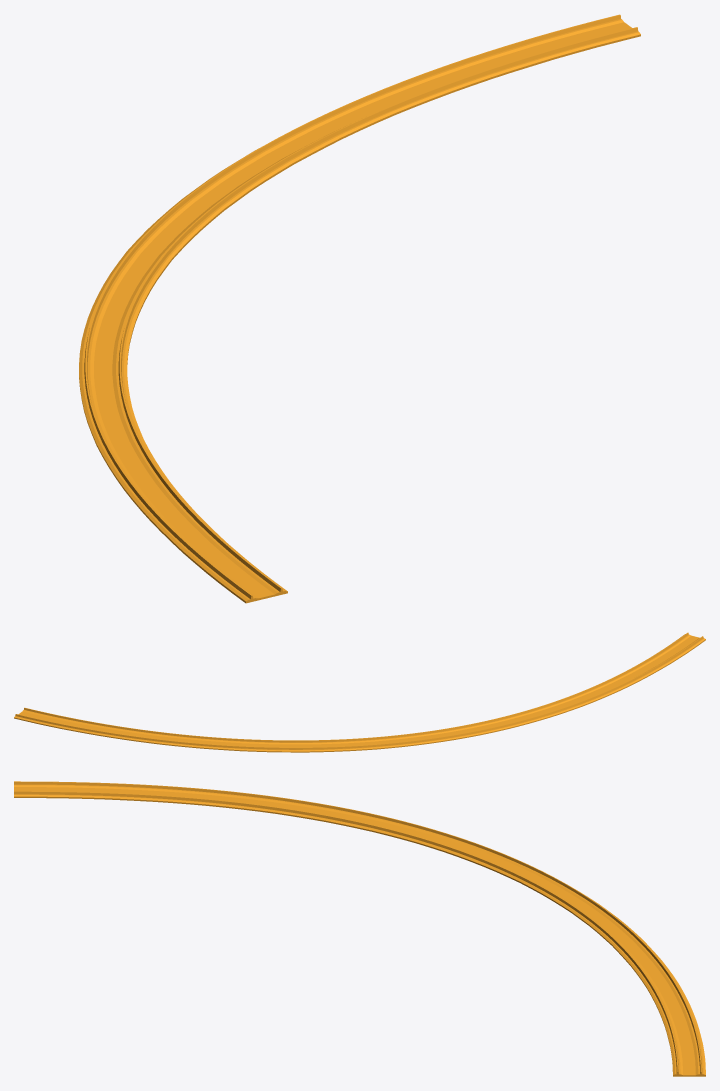
Rendered from SM_Train_Rail_Turn_Collider.fbx.
3 views of the same model, one above another, from view 1: azimuth 30°, elevation 25°; view 2: azimuth 150°, elevation 25°; view 3: azimuth 270°, elevation 25° (orthographic). The views are drawn at different scales.
Parts seen in each view (by area): view 1: SM_Train_Rail_Turn_Collider; view 2: SM_Train_Rail_Turn_Collider; view 3: SM_Train_Rail_Turn_Collider.
Boxes of the visible parts, box(x1,y1,x2,y2) form: SM_Train_Rail_Turn_Collider: box(79, 14, 640, 603); SM_Train_Rail_Turn_Collider: box(14, 632, 705, 752); SM_Train_Rail_Turn_Collider: box(14, 781, 705, 1076).
Size of the model in its own units: 46.1 by 0.3234 by 46.1.
